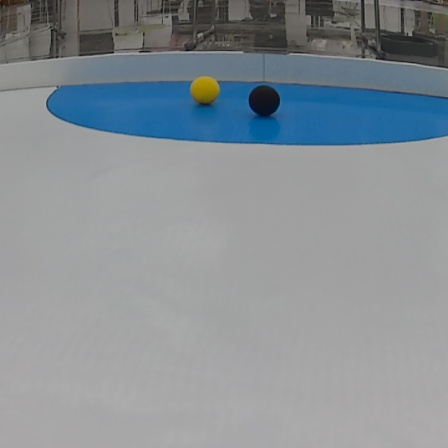black: (251, 84, 283, 117)
blue_base: (44, 83, 448, 145)
yellow: (190, 76, 221, 106)
